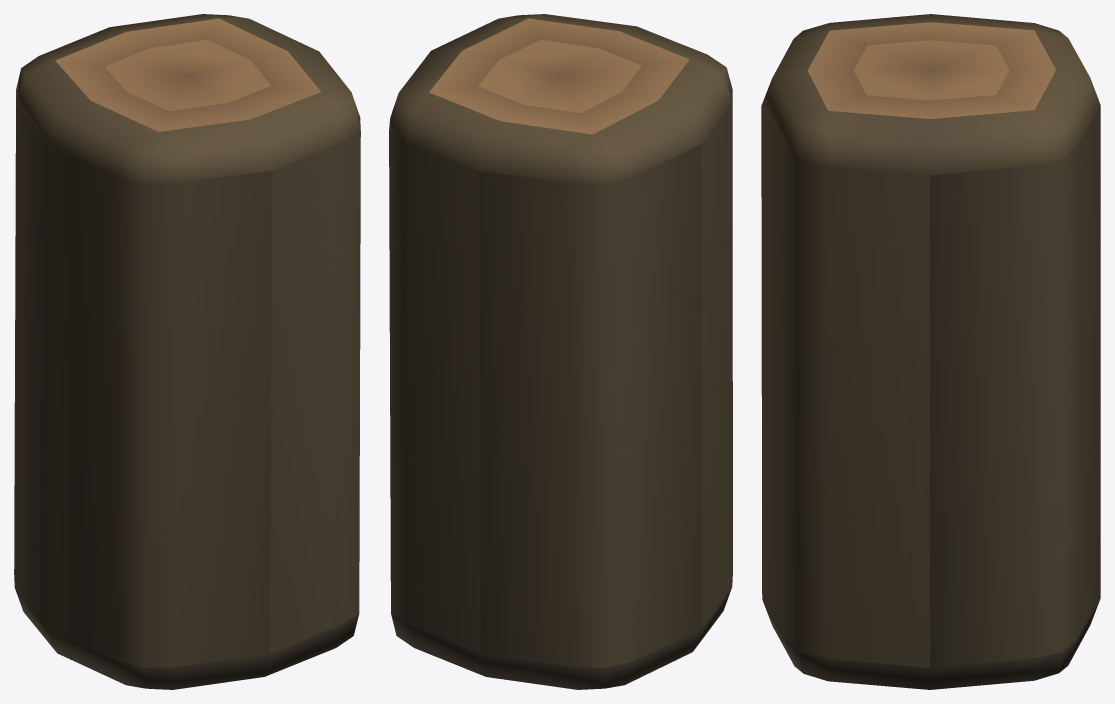
File: trunk_LOD_setup.fbx
3 renders of one model, left to right at view 1: azimuth 30°, elevation 25°; view 2: azimuth 150°, elevation 25°; view 3: azimuth 270°, elevation 25°, orthographic. The views are drawn at different scales.
Parts seen in each view (by area): view 1: trunk_LOD0; view 2: trunk_LOD0; view 3: trunk_LOD0.
Boxes of the visible parts, <box> form: trunk_LOD0: <box>14,14,360,689</box>; trunk_LOD0: <box>389,14,732,689</box>; trunk_LOD0: <box>761,14,1100,689</box>.
Size of what is drawn, in the model's own units: 57.03 by 107 by 58.04.
